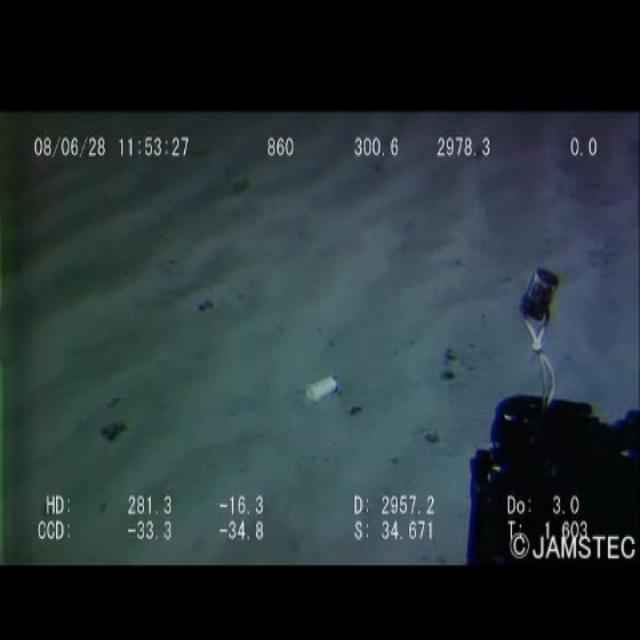Cutlery: (272, 369, 353, 417)
